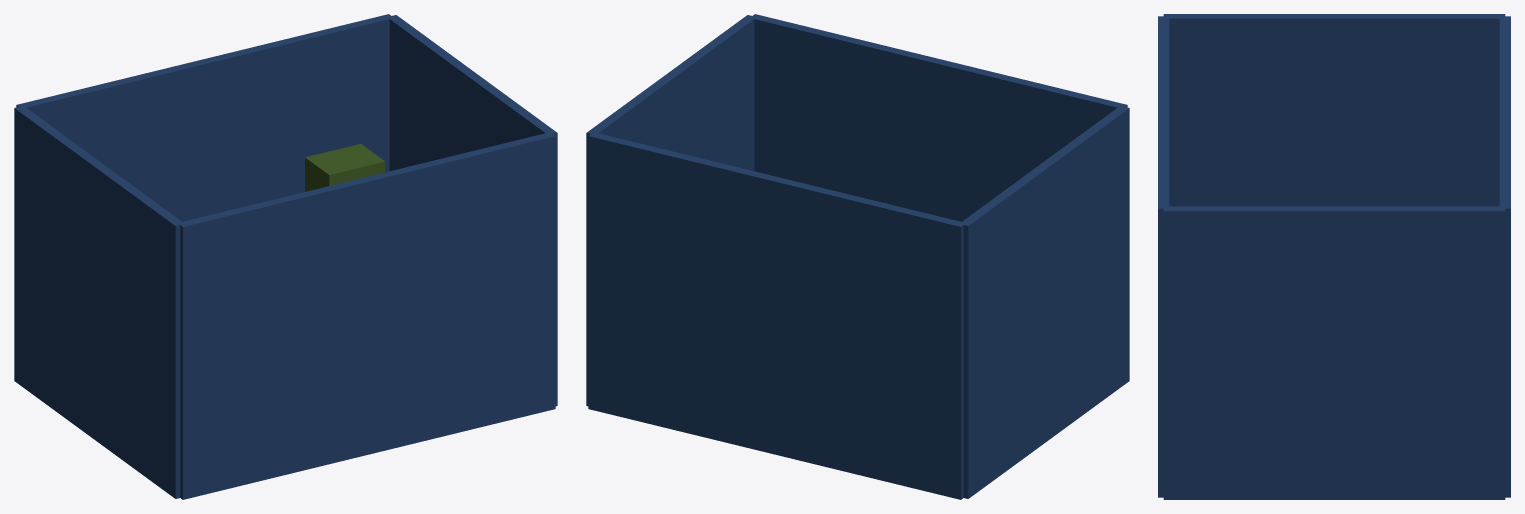
The picture shows the model from 3 angles, left to right: view 1: azimuth 30°, elevation 25°; view 2: azimuth 150°, elevation 25°; view 3: azimuth 270°, elevation 25°; orthographic projection. The views are drawn at different scales.
Visible parts, largest first — view 1: wall-south, wall-west, wall-north, wall-east, cabinet-1; view 2: wall-north, wall-west, wall-south, wall-east; view 3: wall-east, wall-west, wall-north, wall-south.
Boxes of the visible parts, left/top/right/bottom form: wall-south: left=178, top=132, right=555, bottom=499; wall-west: left=14, top=106, right=183, bottom=498; wall-north: left=16, top=14, right=393, bottom=221; wall-east: left=389, top=15, right=557, bottom=406; cabinet-1: left=305, top=144, right=385, bottom=191; wall-north: left=588, top=132, right=965, bottom=499; wall-west: left=961, top=106, right=1129, bottom=498; wall-south: left=750, top=14, right=1127, bottom=221; wall-east: left=586, top=15, right=754, bottom=406; wall-east: left=1163, top=206, right=1505, bottom=499; wall-west: left=1163, top=14, right=1505, bottom=206; wall-north: left=1499, top=16, right=1510, bottom=497; wall-south: left=1158, top=16, right=1169, bottom=497.
Size of the model in its own units: 4100 by 2800 by 3100.
